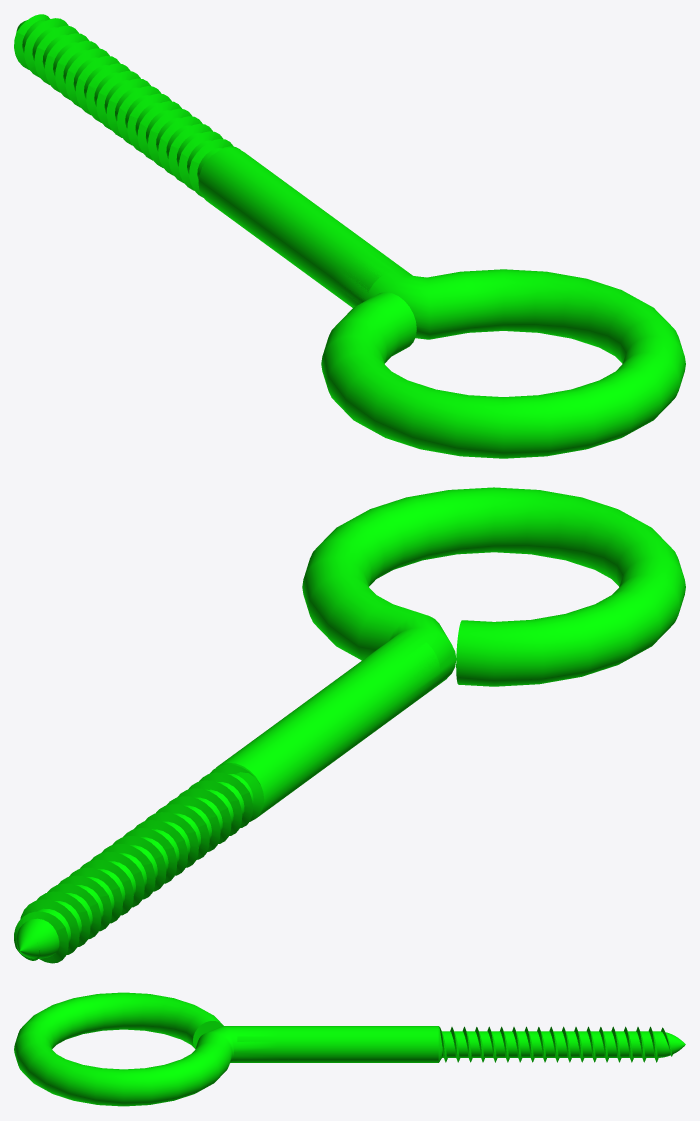
The model's file is spirelli_robot_green.dae.
3 views of the same model, one above another, from view 1: azimuth 30°, elevation 25°; view 2: azimuth 150°, elevation 25°; view 3: azimuth 270°, elevation 25° (orthographic). The views are drawn at different scales.
Parts seen in each view (by area): view 1: Bent_Wire_Eye, Shank, thread_.125_section_ (×14), Root, screw_thread_tip; view 2: Bent_Wire_Eye, Shank, thread_.125_section_ (×15), Root, screw_thread_tip; view 3: Bent_Wire_Eye, Shank, Root, screw_thread_tip.
Boxes of the visible parts, x1,y1,x2,y2 form: Bent_Wire_Eye: [321, 245, 685, 458]; Shank: [198, 147, 409, 307]; thread_.125_section_ (×14): [34, 33, 223, 182]; Root: [16, 19, 222, 179]; screw_thread_tip: [14, 14, 78, 77]; Bent_Wire_Eye: [302, 487, 685, 709]; Shank: [216, 634, 440, 821]; thread_.125_section_ (×15): [47, 772, 249, 947]; Root: [16, 774, 253, 958]; screw_thread_tip: [14, 891, 86, 963]; Bent_Wire_Eye: [14, 992, 277, 1106]; Shank: [237, 1026, 441, 1062]; Root: [442, 1031, 685, 1057]; screw_thread_tip: [636, 1026, 672, 1062].
Size of the model in its own units: 6.64 by 20.32 by 1.12.
